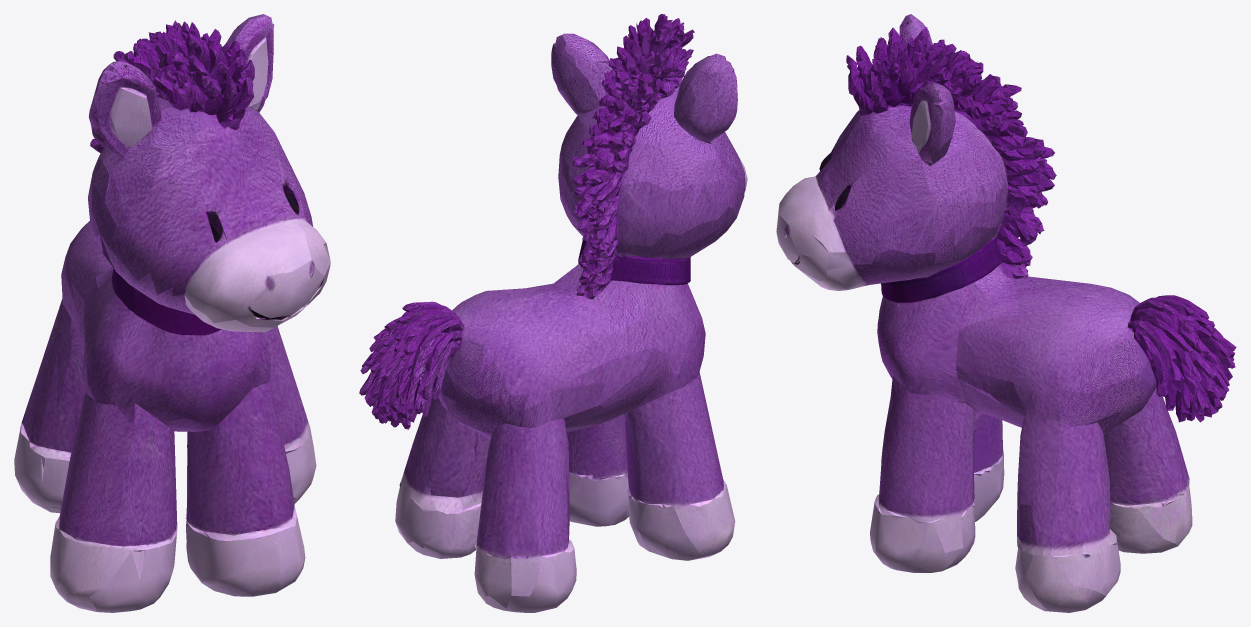
The model's file is ginza.glb.
The picture shows the model from 3 angles, left to right: view 1: azimuth 30°, elevation 25°; view 2: azimuth 150°, elevation 25°; view 3: azimuth 270°, elevation 25°; orthographic projection. The views are drawn at different scales.
Bounding box in the file's own units: 0.6644 × 1.15 × 0.958.
Materials: 1 (1 with a texture image).
